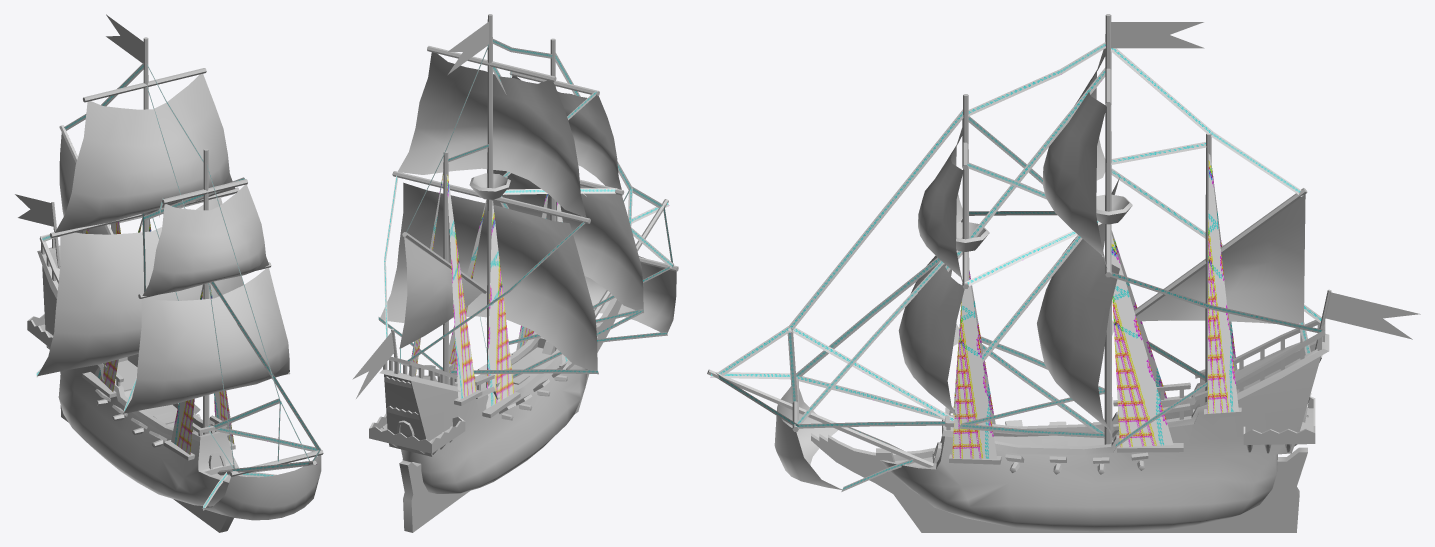
File: cartoon-fluyt.FBX
3 views of the same model, side by side, from view 1: azimuth 30°, elevation 25°; view 2: azimuth 150°, elevation 25°; view 3: azimuth 270°, elevation 25° (orthographic). The views are drawn at different scales.
Parts seen in each view (by area): view 1: cartoon-fluyt-sails, cartoon-fluyt-body, cartoon-fluyt-ropes; view 2: cartoon-fluyt-sails, cartoon-fluyt-body, cartoon-fluyt-ropes; view 3: cartoon-fluyt-body, cartoon-fluyt-sails, cartoon-fluyt-ropes.
Boxes of the visible parts, bbox=[...] form: cartoon-fluyt-sails: bbox=[15, 14, 321, 520]; cartoon-fluyt-body: bbox=[27, 37, 323, 532]; cartoon-fluyt-ropes: bbox=[36, 63, 320, 510]; cartoon-fluyt-sails: bbox=[352, 21, 676, 398]; cartoon-fluyt-body: bbox=[369, 14, 678, 532]; cartoon-fluyt-ropes: bbox=[378, 39, 674, 408]; cartoon-fluyt-body: bbox=[707, 14, 1331, 532]; cartoon-fluyt-sails: bbox=[774, 22, 1420, 489]; cartoon-fluyt-ropes: bbox=[710, 42, 1324, 491].
Size of the model in its own units: 544 by 1076 by 1348.
